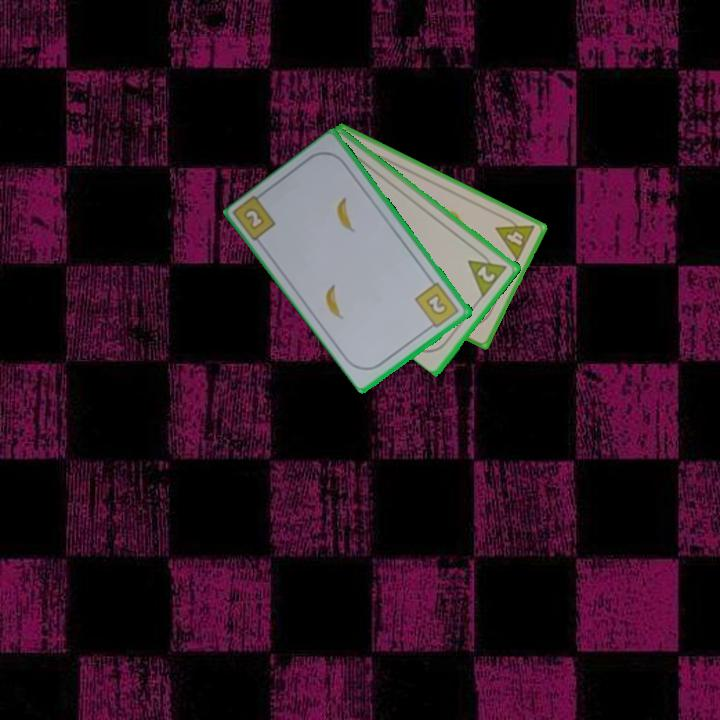2b: (412, 279, 462, 332), (242, 206, 265, 230)
2p: (465, 246, 511, 299)
4p: (492, 211, 538, 264)
